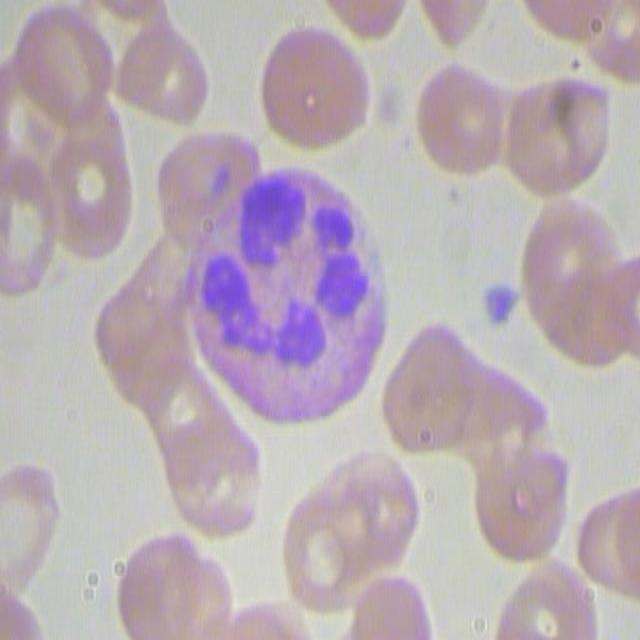RBC: (274, 454, 381, 638), (158, 376, 268, 551), (523, 195, 631, 371), (374, 328, 505, 472), (36, 89, 137, 268), (494, 72, 614, 200), (255, 22, 368, 150), (6, 2, 114, 128), (100, 265, 196, 404), (116, 527, 236, 638), (471, 438, 575, 561), (98, 13, 208, 129), (152, 128, 251, 244), (410, 64, 507, 181), (493, 560, 594, 640), (0, 465, 60, 593), (0, 174, 60, 295), (578, 487, 640, 604), (345, 572, 439, 640), (308, 0, 417, 50), (585, 0, 639, 83), (414, 0, 498, 41)
WBC: (196, 187, 402, 422)
platelets: (477, 276, 522, 332)
